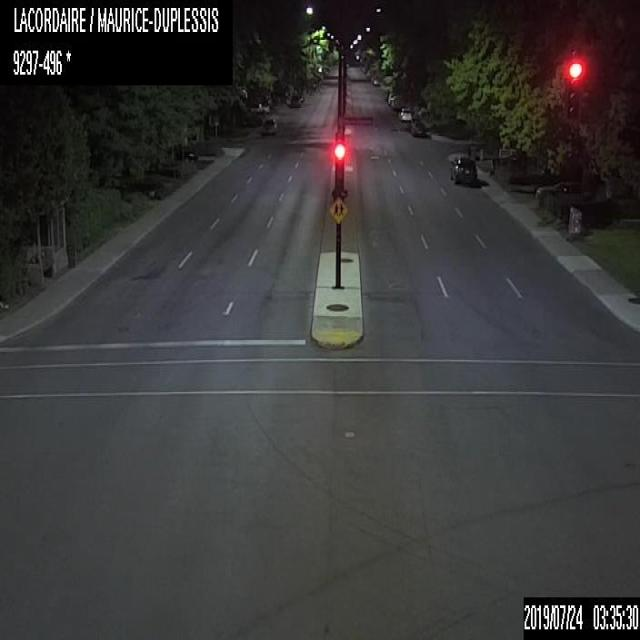vehicle: (535, 180, 603, 208), (448, 155, 477, 185), (168, 143, 196, 162), (408, 116, 428, 138), (261, 113, 276, 136), (396, 105, 413, 120), (250, 102, 268, 114), (289, 93, 300, 108), (391, 95, 402, 108), (386, 91, 393, 105), (297, 92, 304, 101), (372, 78, 378, 85)
